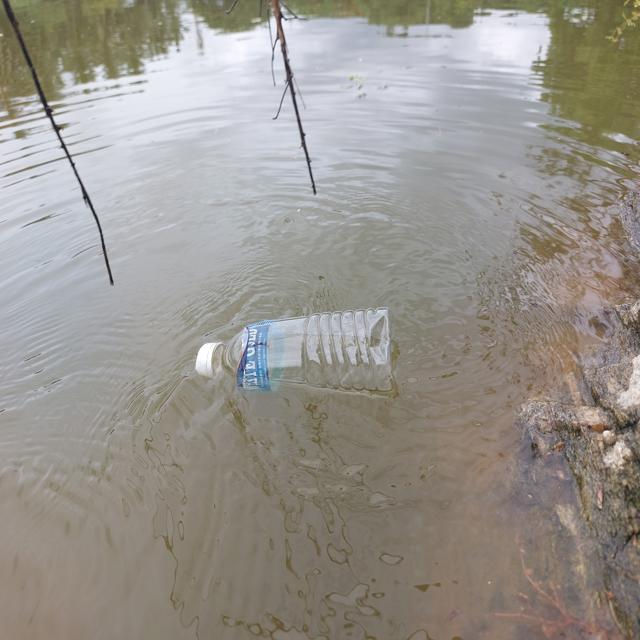waterbottle: (183, 310, 417, 396)
